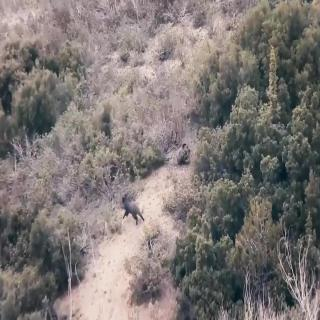Pig: (121, 184, 151, 239)
